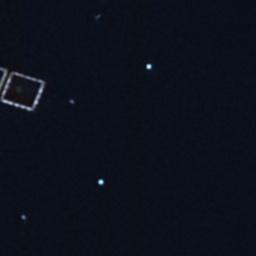square_solid: (1, 65, 50, 117)
